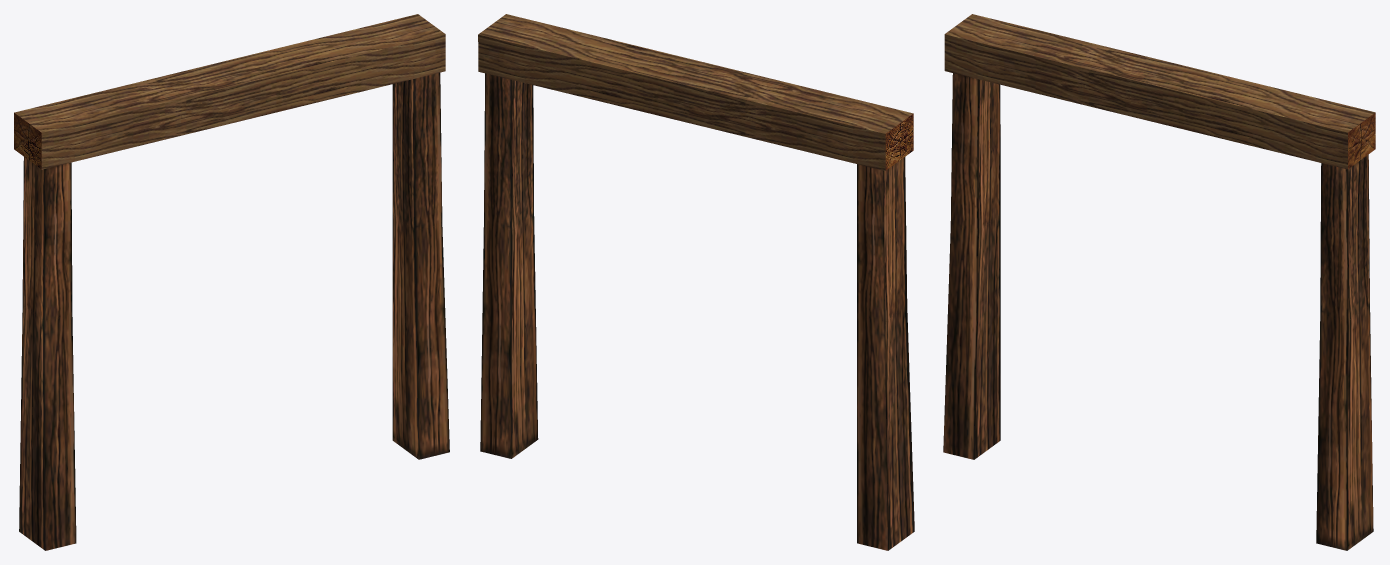
File: LAKETOWN_WAREHOUSE2_PS_WH2_DOORFRAME0039__GX.fbx
3 views of the same model, side by side, from view 1: azimuth 30°, elevation 25°; view 2: azimuth 150°, elevation 25°; view 3: azimuth 330°, elevation 25° (orthographic).
Visible parts, largest first — view 1: LAKETOWN_WAREHOUSE2_PS_WH2_DOORFRAME0039__GX; view 2: LAKETOWN_WAREHOUSE2_PS_WH2_DOORFRAME0039__GX; view 3: LAKETOWN_WAREHOUSE2_PS_WH2_DOORFRAME0039__GX.
Part boxes in pixels (box(x1,y1,x2,y2)): LAKETOWN_WAREHOUSE2_PS_WH2_DOORFRAME0039__GX: box(14, 14, 449, 550); LAKETOWN_WAREHOUSE2_PS_WH2_DOORFRAME0039__GX: box(478, 14, 914, 550); LAKETOWN_WAREHOUSE2_PS_WH2_DOORFRAME0039__GX: box(943, 14, 1375, 550).
Size of the model in its own units: 34050 by 33420 by 4392.
Materials: 3 (3 with a texture image).
